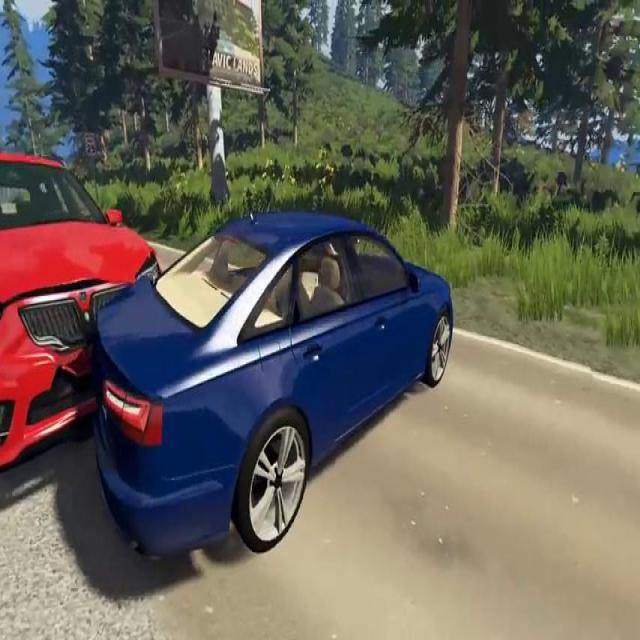moderate: (0, 148, 461, 576)
